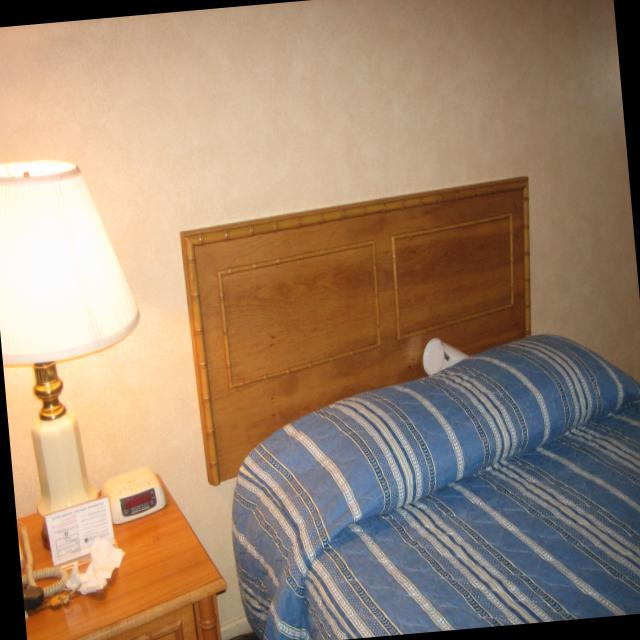alarm: (99, 465, 165, 526)
bed -occluded-: (177, 176, 640, 640)
headboard: (182, 177, 530, 488)
keys: (36, 582, 82, 610)
lamp crop: (0, 161, 140, 524)
night desk: (17, 470, 226, 640)
